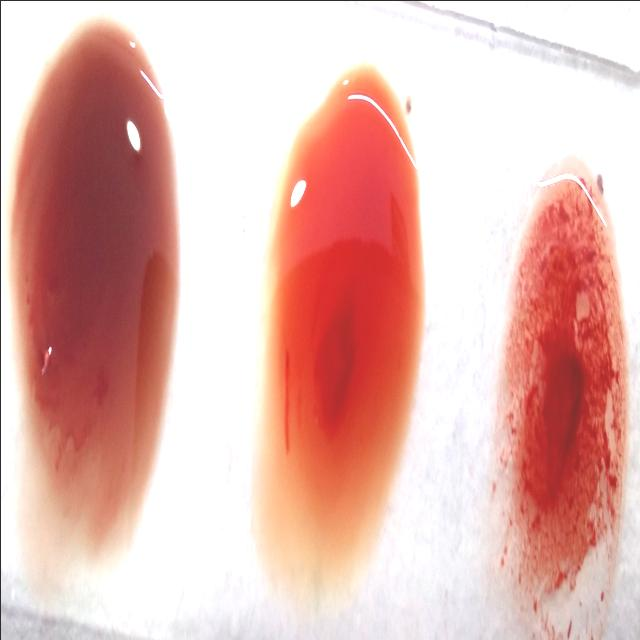D: (499, 162, 621, 626)
